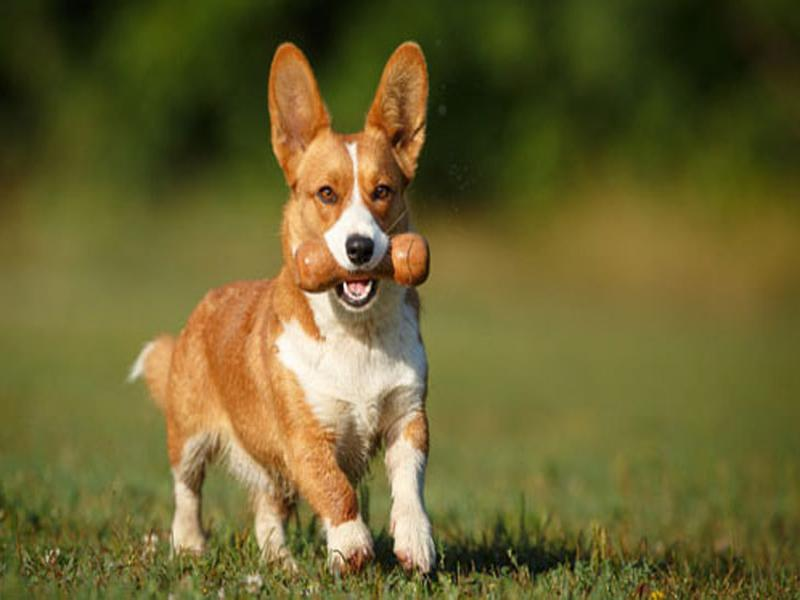corgi: (266, 44, 435, 313)
